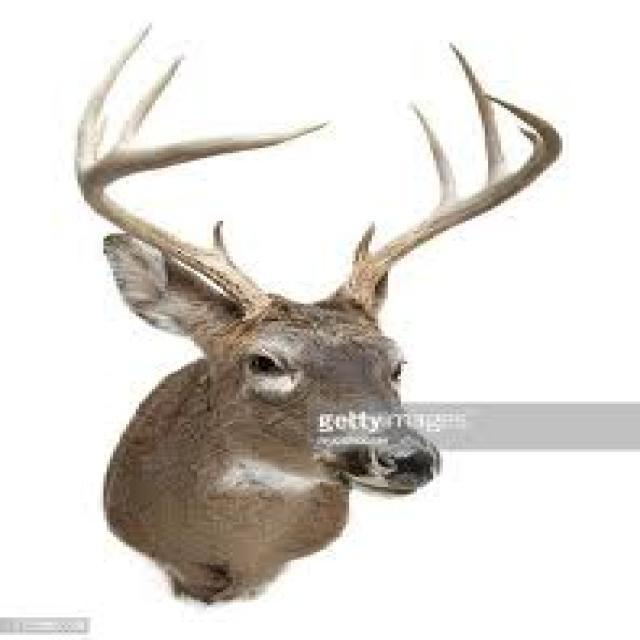E1: (517, 124, 545, 162)
L-F: (330, 94, 564, 324)
L-G1: (352, 221, 379, 269)
L-G2: (408, 98, 458, 206)
L-G3: (448, 41, 508, 183)
R-F: (76, 119, 333, 321)
R-G1: (212, 219, 229, 257)
R-G3: (73, 21, 155, 171)
R-G4: (109, 53, 187, 153)
